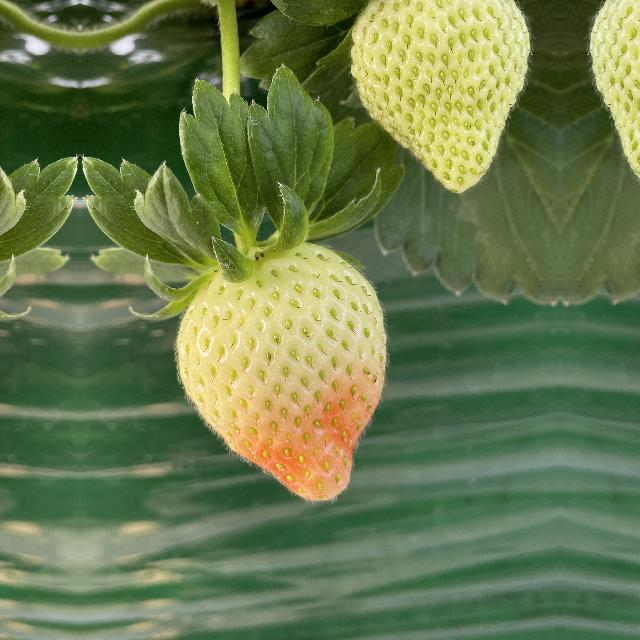Health_25: (345, 0, 535, 198), (585, 0, 640, 198)
Health_50: (162, 230, 386, 502)
